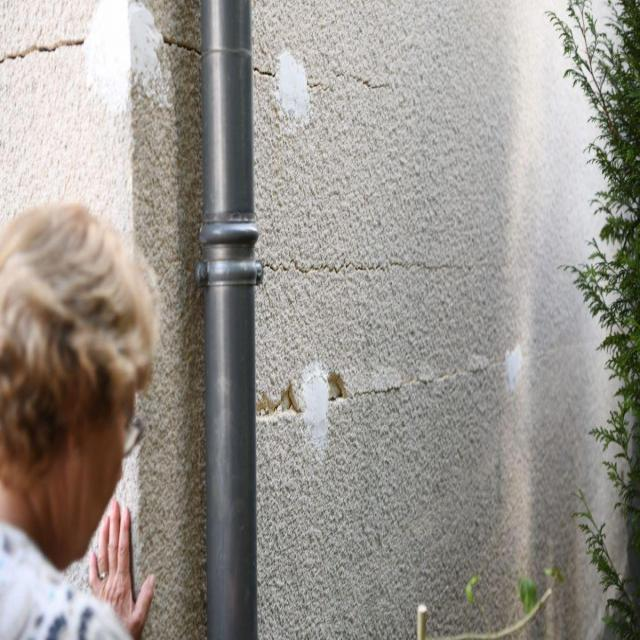crack: (353, 360, 506, 399), (260, 255, 465, 277), (2, 38, 86, 66), (334, 66, 390, 91), (164, 35, 200, 54), (254, 65, 277, 83), (310, 81, 338, 92)
